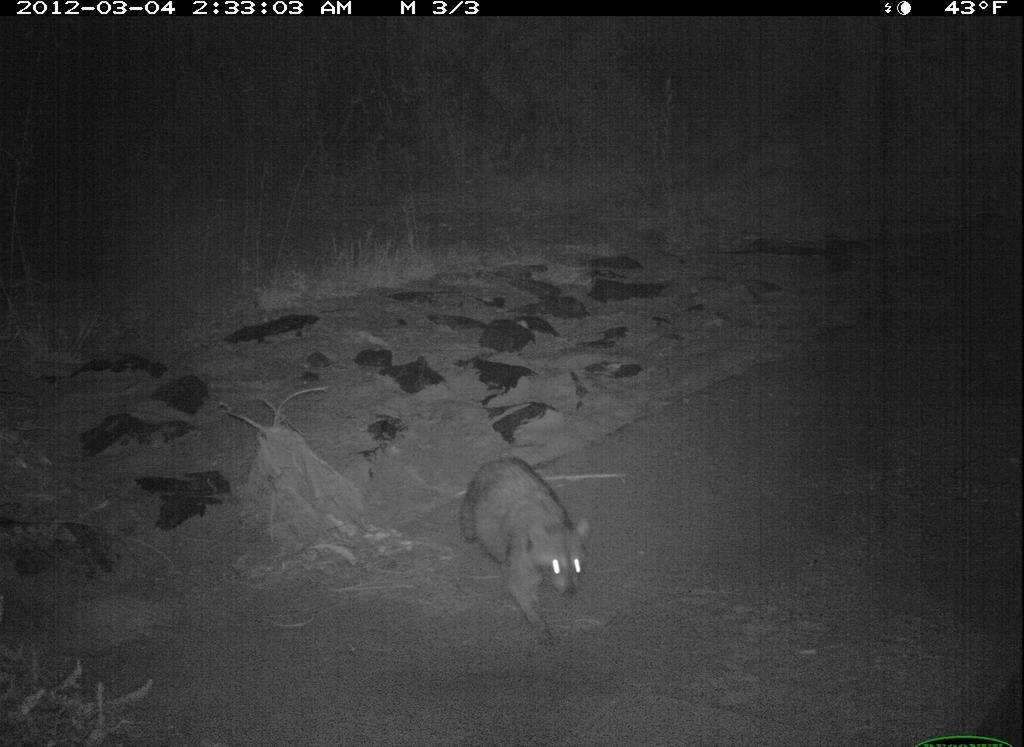raccoon: (457, 438, 612, 648)
